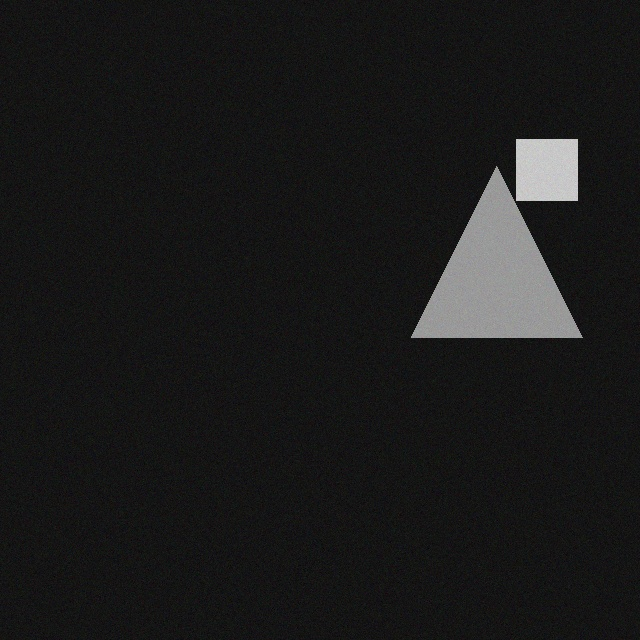square: (510, 150, 571, 211)
triangle: (405, 177, 576, 348)
